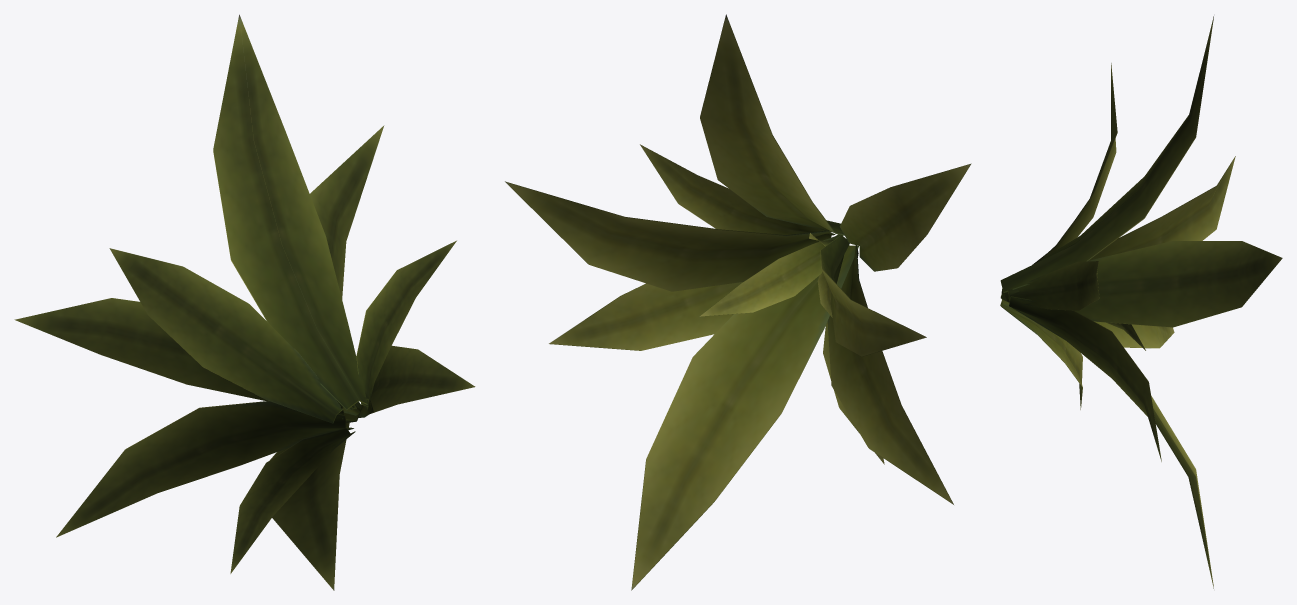
File: Grass_I.fbx
3 views of the same model, side by side, from view 1: azimuth 30°, elevation 25°; view 2: azimuth 150°, elevation 25°; view 3: azimuth 270°, elevation 25° (orthographic). The views are drawn at different scales.
Parts seen in each view (by area): view 1: Grass_I; view 2: Grass_I; view 3: Grass_I.
Part boxes in pixels (x1,y1,x2,y2): Grass_I: (14, 14, 475, 590); Grass_I: (505, 14, 971, 590); Grass_I: (1000, 16, 1282, 588).
Bounding box in the file's own units: 56.44 × 77.02 × 36.84.
